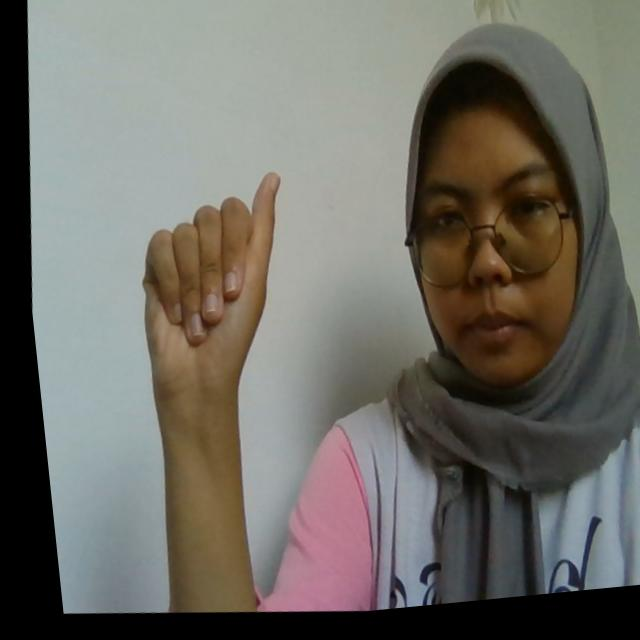A: (118, 162, 293, 390)
